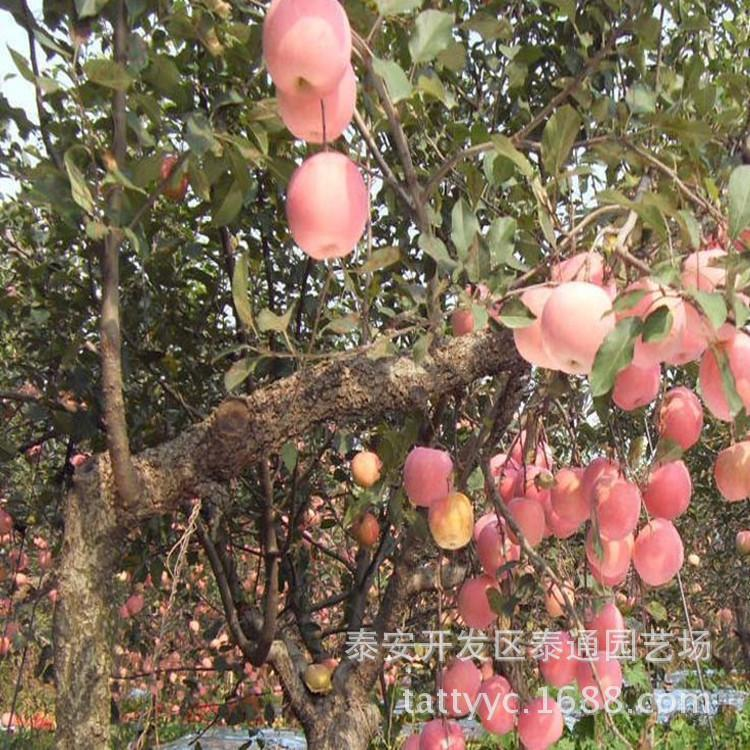apple: (286, 149, 369, 262), (261, 1, 351, 99), (622, 275, 711, 363), (539, 281, 614, 373), (631, 519, 684, 589), (587, 474, 641, 539), (653, 385, 703, 450), (642, 458, 693, 520), (404, 447, 455, 508), (429, 491, 475, 552), (611, 362, 661, 409), (716, 439, 750, 504)
